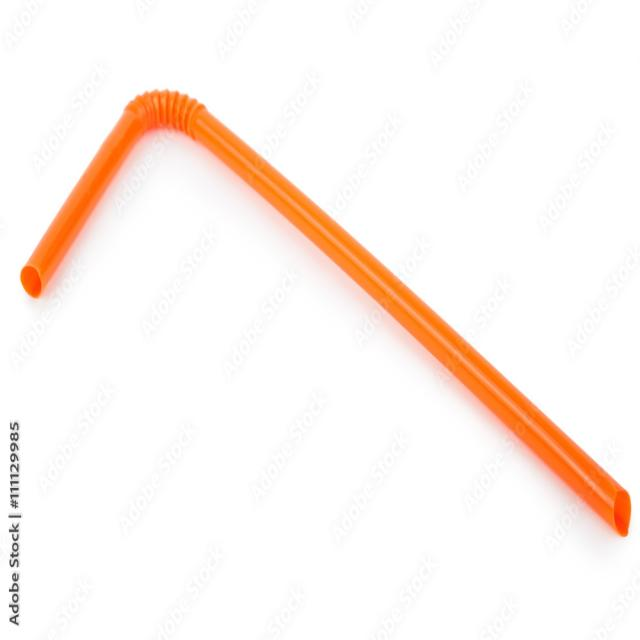plastic: (13, 19, 633, 590)
